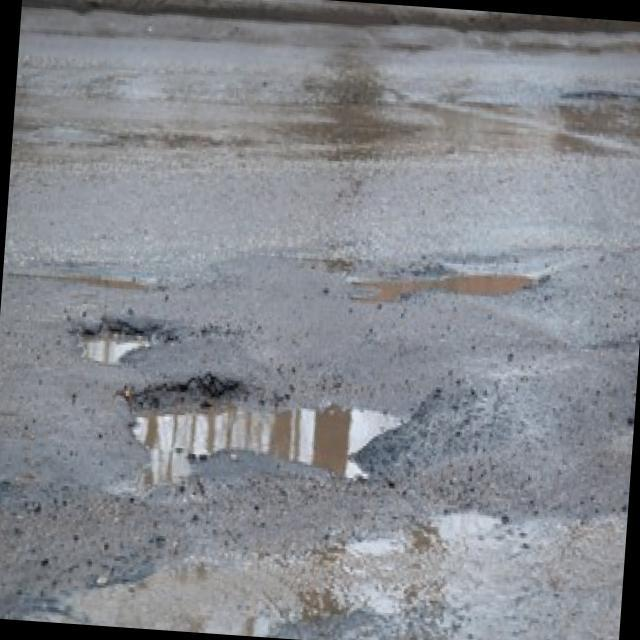Pothole: (120, 366, 406, 502), (71, 310, 165, 368)
